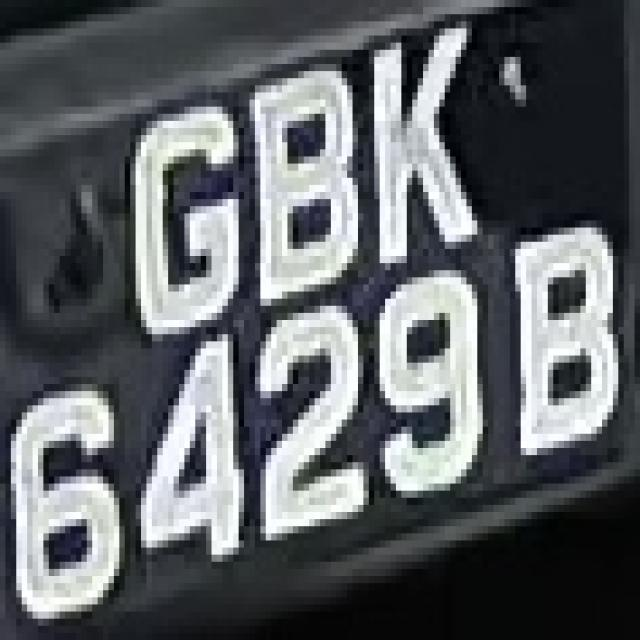2: (255, 292, 380, 548)
4: (130, 327, 266, 605)
6: (0, 4, 1, 7)
9: (353, 242, 488, 526)
B: (488, 228, 635, 477), (255, 64, 363, 320)
G: (108, 78, 250, 334)
K: (347, 14, 483, 249)
